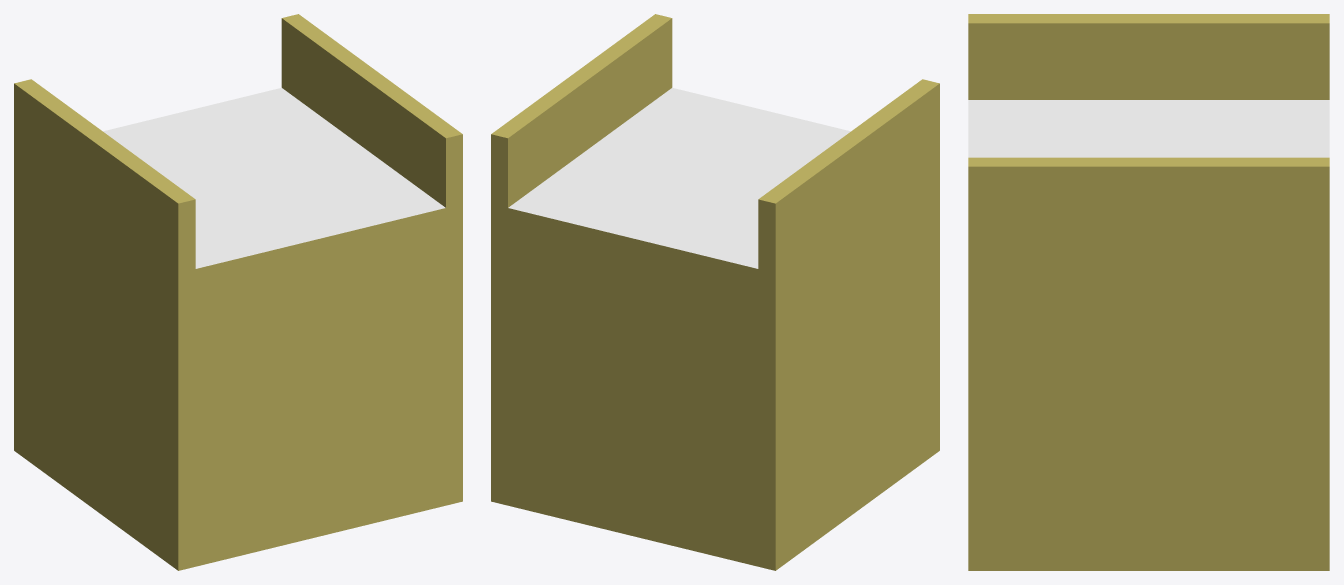
The picture shows the model from 3 angles, left to right: view 1: azimuth 30°, elevation 25°; view 2: azimuth 150°, elevation 25°; view 3: azimuth 270°, elevation 25°; orthographic projection. The views are drawn at different scales.
Parts seen in each view (by area): view 1: Cube.001; view 2: Cube.001; view 3: Cube.001.
Part boxes in pixels (left/top/right/bottom): Cube.001: left=14, top=14, right=462, bottom=570; Cube.001: left=491, top=14, right=939, bottom=570; Cube.001: left=968, top=14, right=1329, bottom=570.
Bounding box in the file's own units: 10000 × 12338 × 10000.
